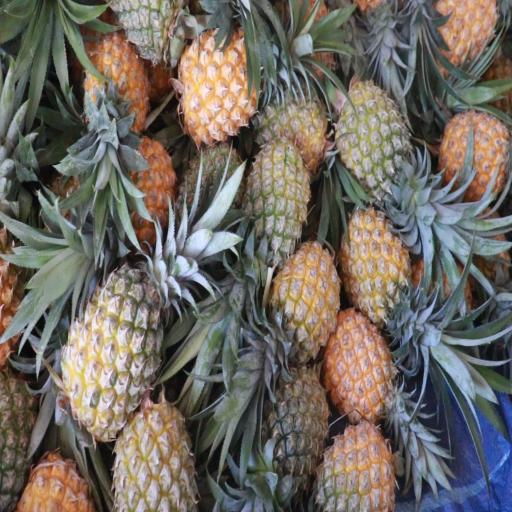------------------------------: (69, 265, 166, 430), (114, 395, 195, 512), (256, 81, 327, 168)
Pineapple - v8 v1: (178, 30, 264, 136), (344, 208, 417, 322), (326, 310, 395, 422), (273, 248, 338, 354), (83, 34, 149, 138), (442, 107, 512, 203), (429, 0, 503, 76), (118, 141, 174, 240)
